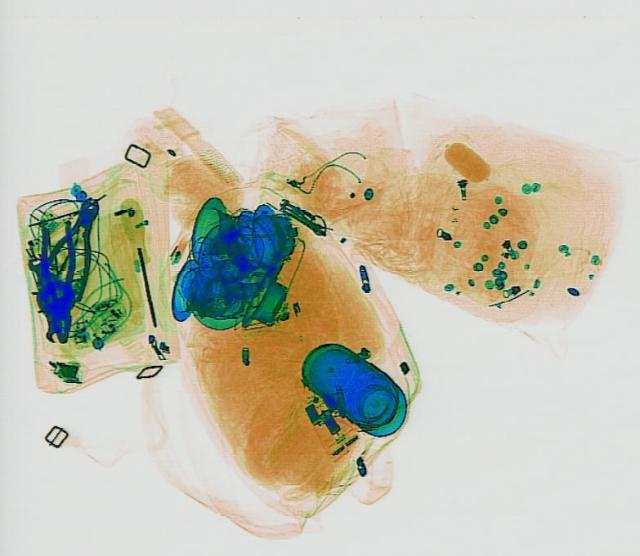Pliers: (30, 193, 116, 301), (34, 220, 82, 340)
Wrench: (32, 284, 66, 340)
